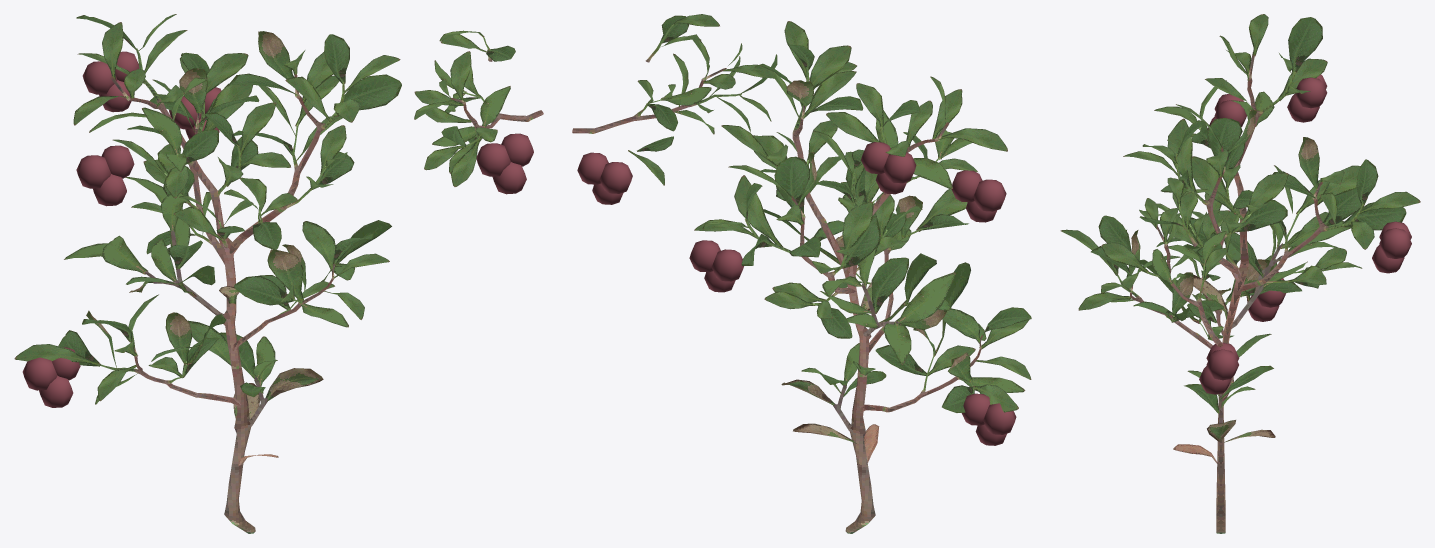
File: rooted-berries-quiet.glb
3 views of the same model, side by side, from view 1: azimuth 30°, elevation 25°; view 2: azimuth 150°, elevation 25°; view 3: azimuth 270°, elevation 25° (orthographic). The views are drawn at different scales.
Visible parts, largest first — view 1: rooted-berries-quiet runtime mesh; view 2: rooted-berries-quiet runtime mesh; view 3: rooted-berries-quiet runtime mesh.
Boxes of the visible parts, box(x1,y1,x2,y2) form: rooted-berries-quiet runtime mesh: box(14, 14, 543, 533); rooted-berries-quiet runtime mesh: box(572, 14, 1031, 533); rooted-berries-quiet runtime mesh: box(1060, 14, 1420, 533).
Size of the model in its own units: 1.05 by 1.05 by 0.7253.
2 materials, 1 textured.
